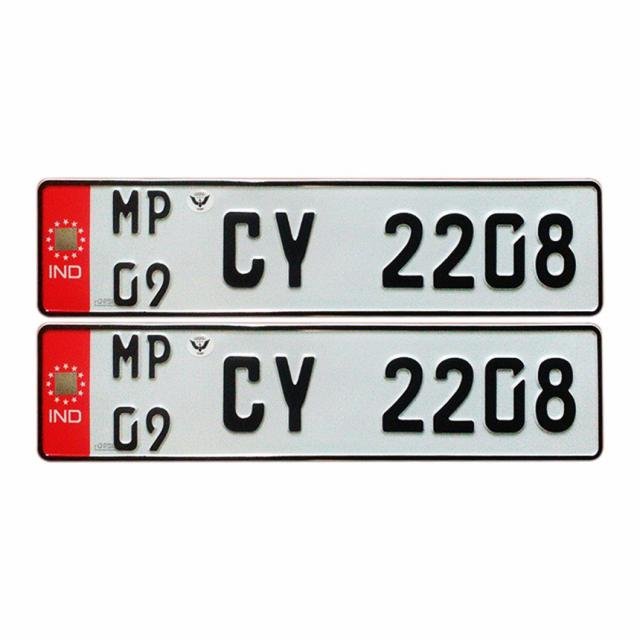plate: (35, 178, 606, 312), (35, 326, 604, 460)
